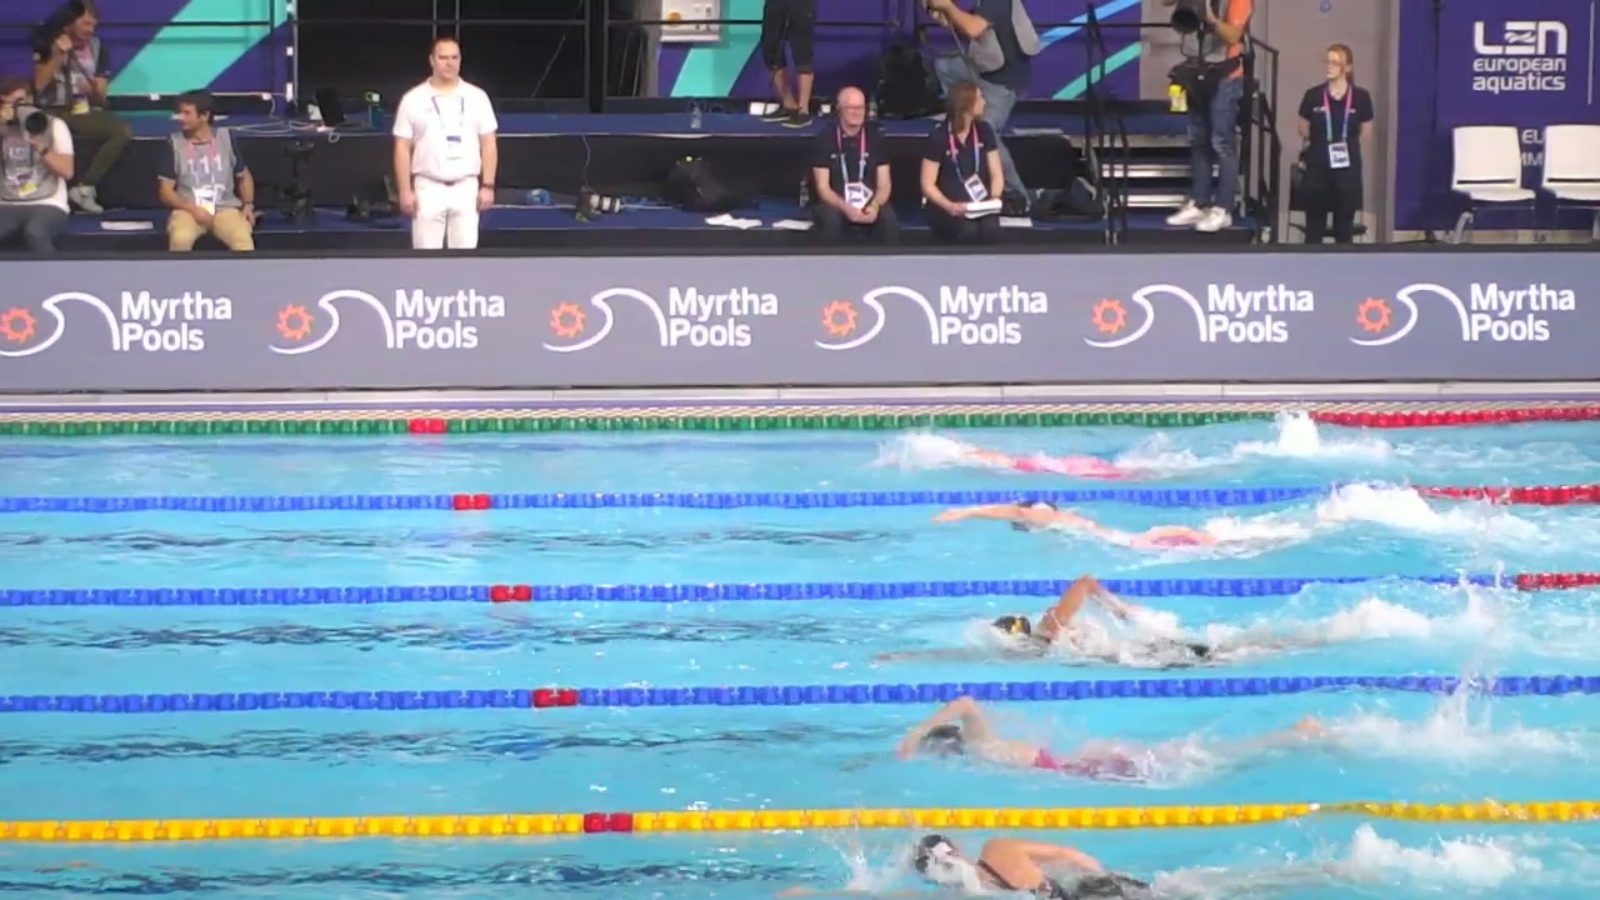swimmerw: (902, 685, 1338, 779), (889, 577, 1335, 667), (922, 496, 1358, 564), (910, 837, 1362, 900), (907, 436, 1186, 480)
